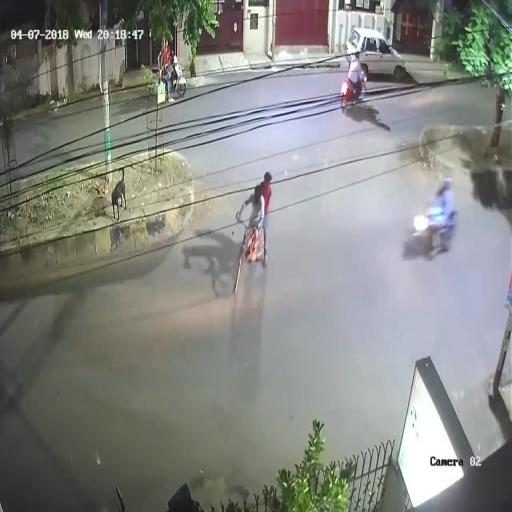小汽车: (348, 26, 406, 78)
自行车: (234, 168, 274, 295), (150, 36, 188, 104), (338, 48, 369, 109)
